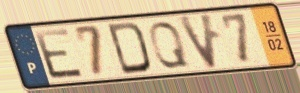7: (72, 23, 108, 79), (219, 11, 253, 67)
D: (106, 20, 154, 77)
E: (32, 26, 88, 82)
Q: (147, 19, 192, 70)
V: (175, 11, 221, 72)
